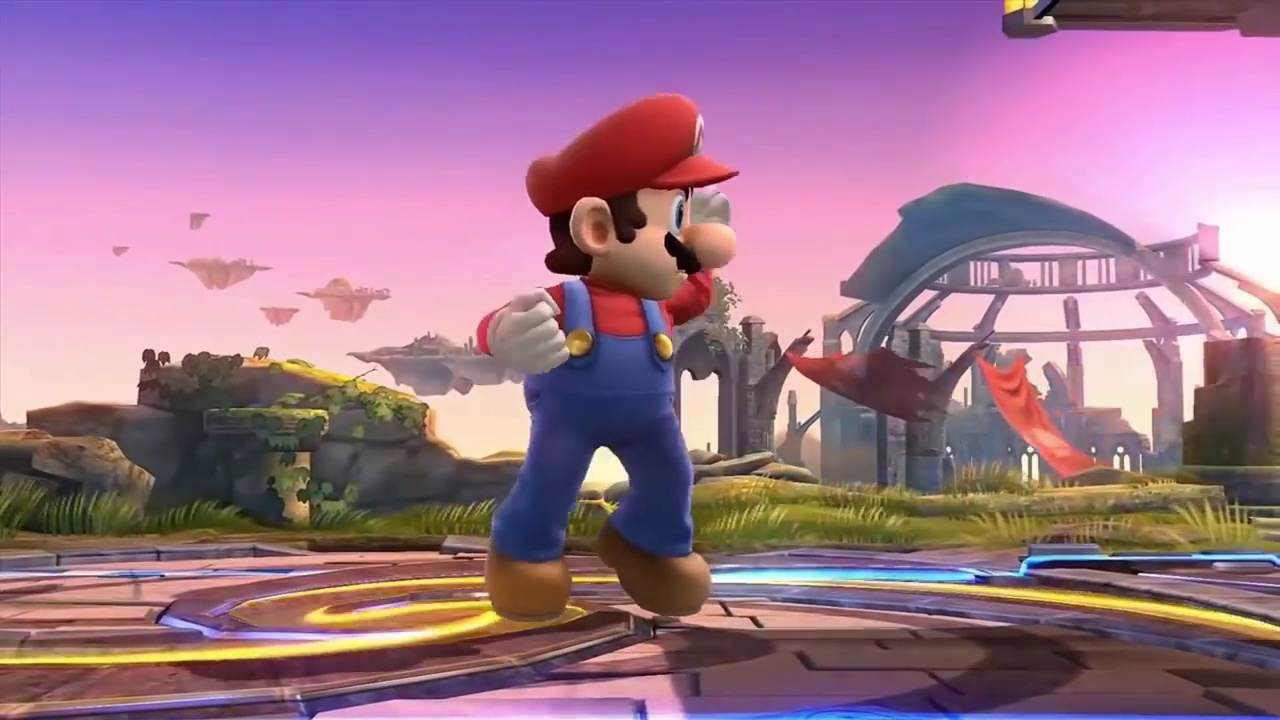Mario: (478, 94, 738, 619)
